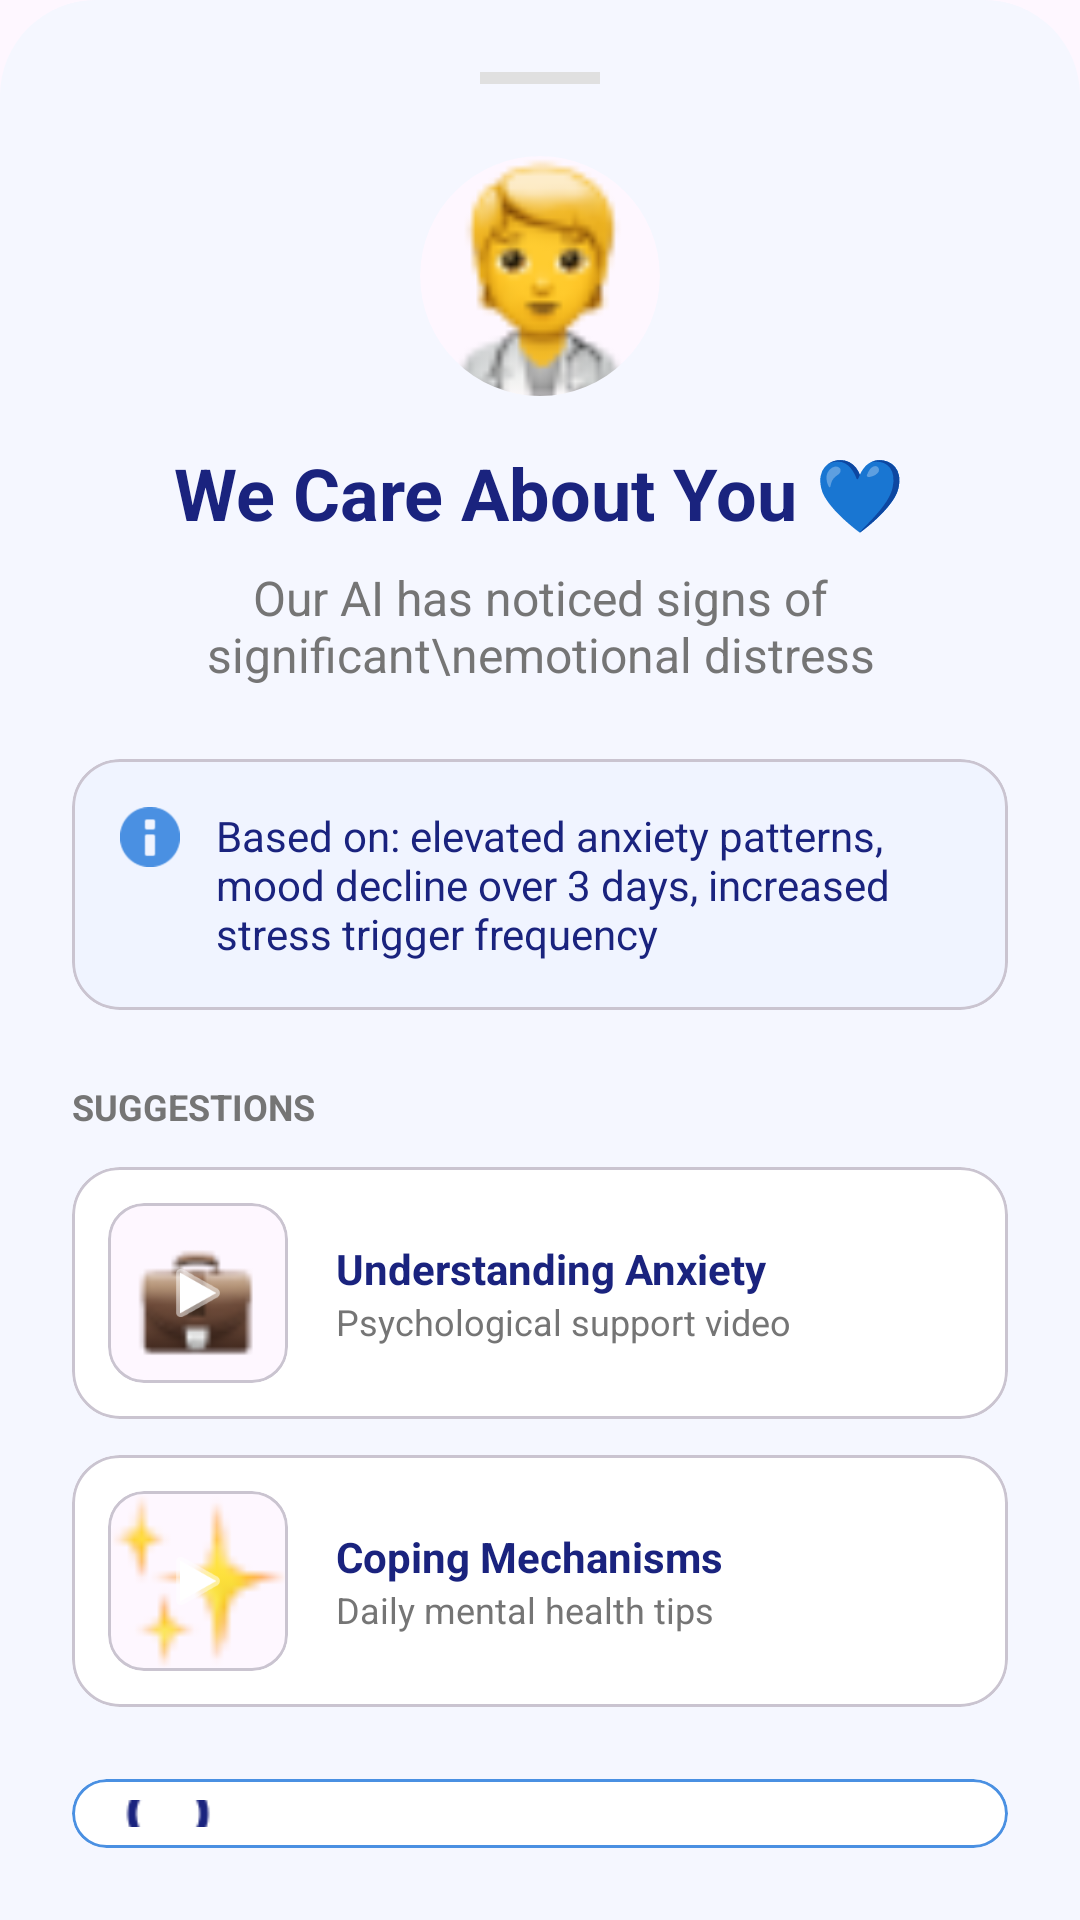

Icon click points for this 1080x1920 phone screenshot, format (x,y):
info: (150,837)
play: (198,1293), (198,1581)
